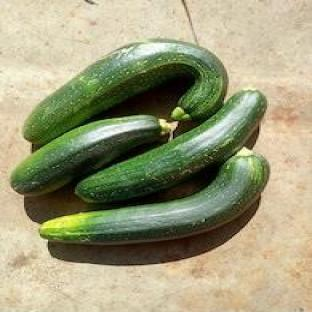Zucchini: (40, 148, 268, 244), (76, 90, 267, 202), (24, 40, 227, 143), (12, 116, 169, 195)
